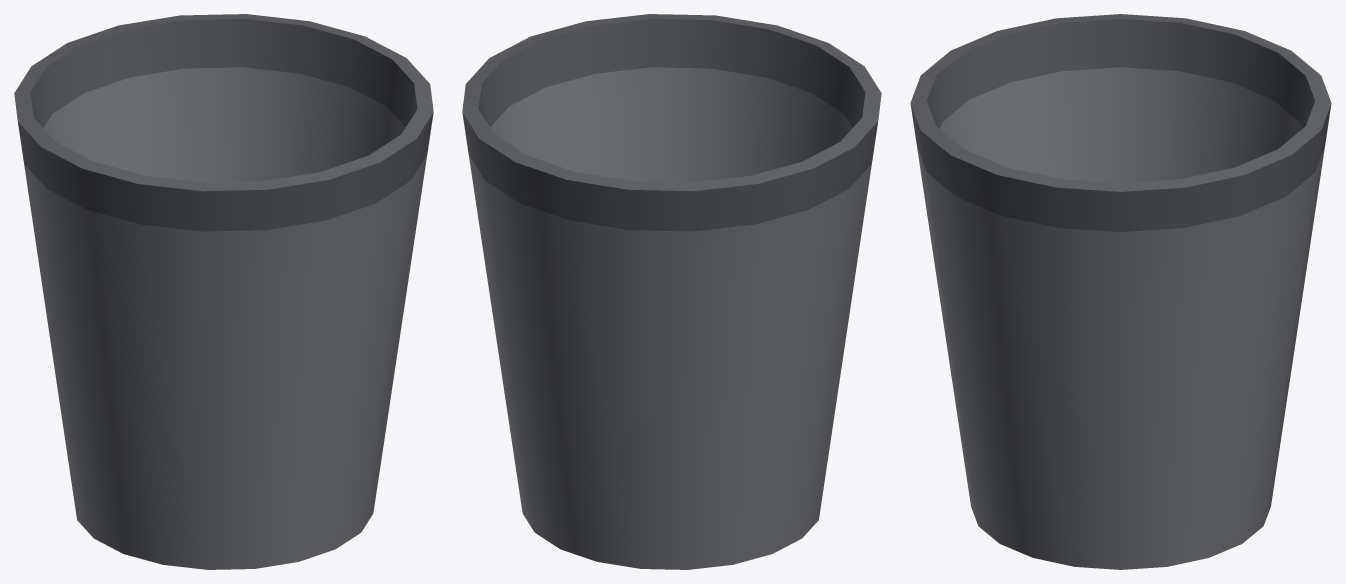
Rendered from Basket.fbx.
3 renders of one model, left to right at view 1: azimuth 30°, elevation 25°; view 2: azimuth 150°, elevation 25°; view 3: azimuth 270°, elevation 25°, orthographic.
Visible parts, largest first — view 1: Basket; view 2: Basket; view 3: Basket.
Part boxes in pixels (<box>): Basket: <box>14,14,433,569</box>; Basket: <box>462,14,881,569</box>; Basket: <box>910,14,1331,569</box>.
Bounding box in the file's own units: 0.3826 × 0.4067 × 0.3826.
